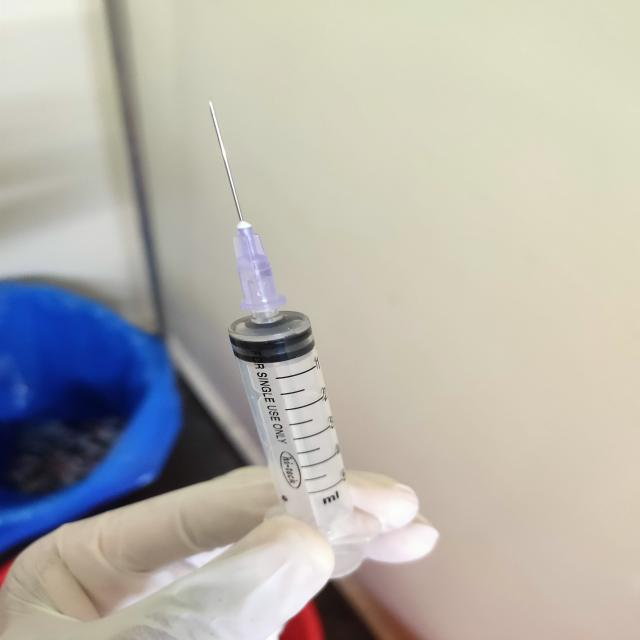B3: (199, 91, 359, 574), (214, 320, 346, 528), (212, 99, 299, 322)
